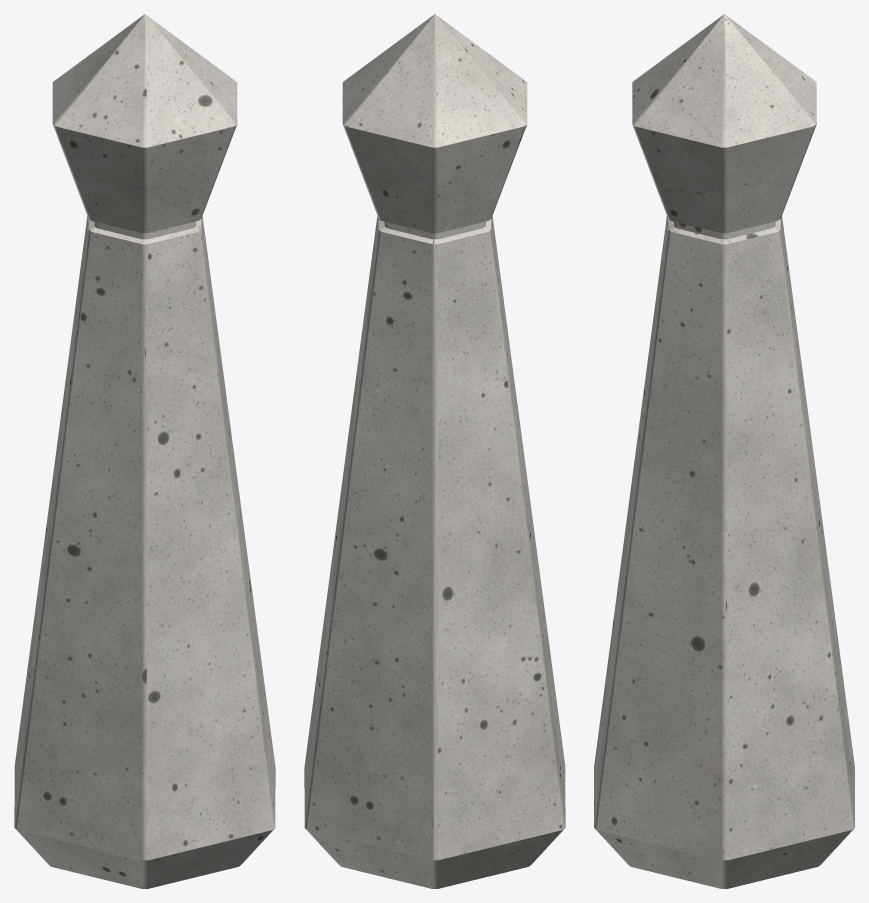
The model's file is king-white.glb.
3 renders of one model, left to right at view 1: azimuth 30°, elevation 25°; view 2: azimuth 150°, elevation 25°; view 3: azimuth 270°, elevation 25°, orthographic.
Parts seen in each view (by area): view 1: HEXALITH_white_king; view 2: HEXALITH_white_king; view 3: HEXALITH_white_king.
Boxes of the visible parts, x1,y1,x2,y2 form: HEXALITH_white_king: (14, 14, 275, 888); HEXALITH_white_king: (304, 14, 565, 888); HEXALITH_white_king: (594, 14, 854, 888).
Size of the model in its own units: 0.5378 by 1.65 by 0.471.
Materials: 1 (1 with a texture image).
